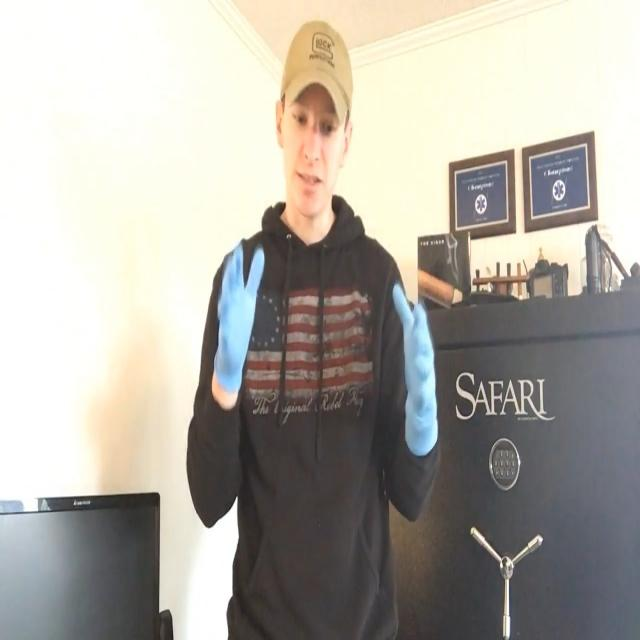Gloves: (213, 233, 272, 395), (391, 258, 439, 452)
